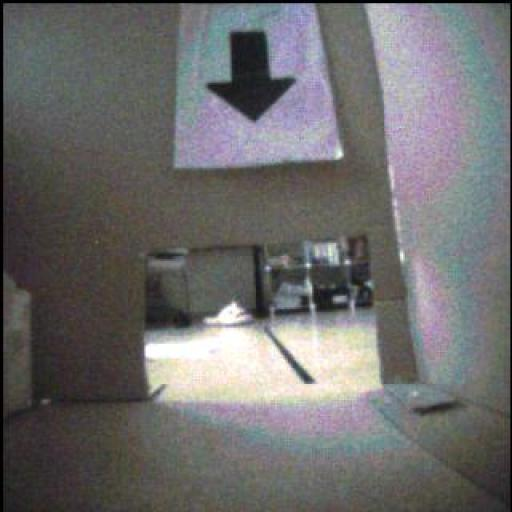arrow: (207, 33, 297, 123)
